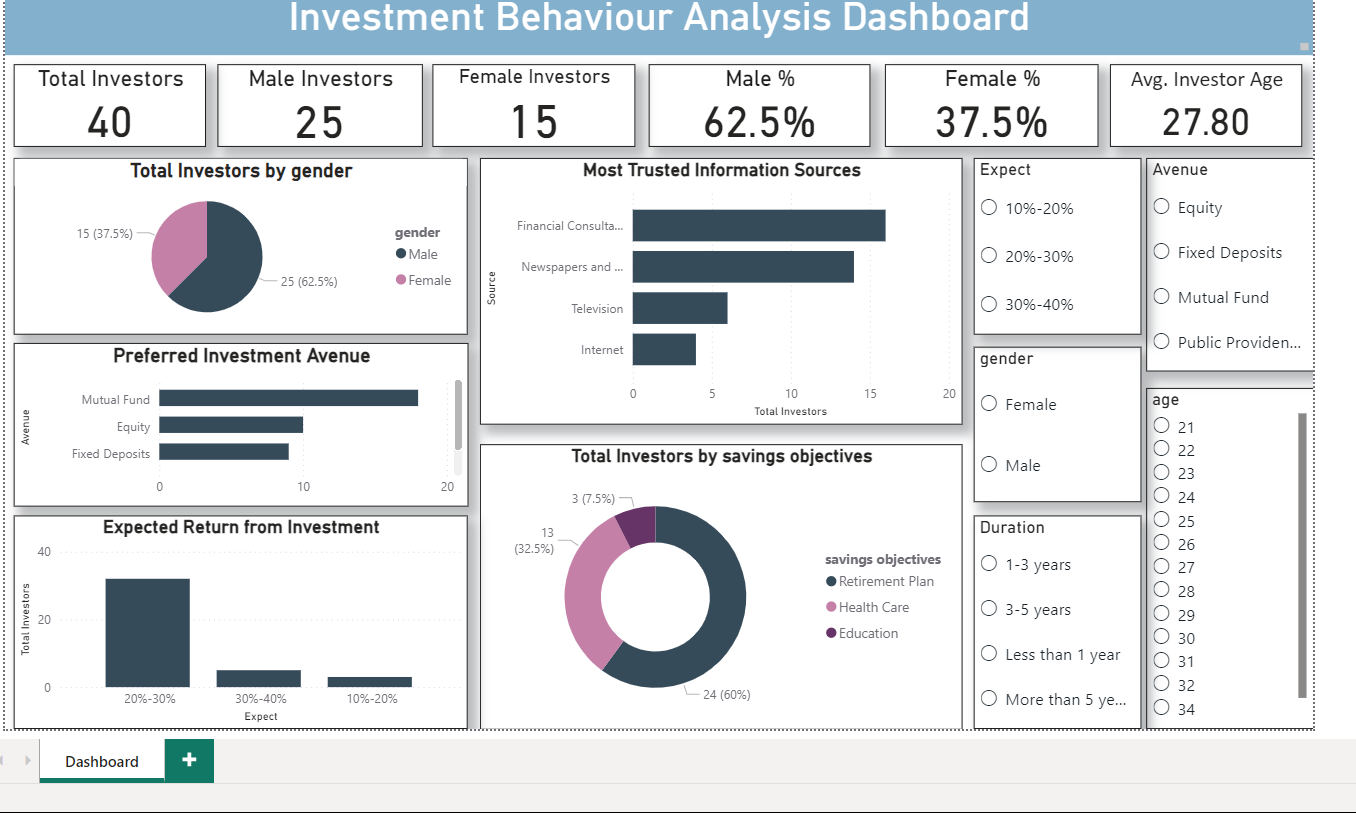

The page's visual inventory and layout, read from the dashboard file:
{"tool":"powerbi","page":{"name":" Dashboard","canvas":[1280,720],"ordinal":0},"visuals":[{"type":"card","title":"Male Investors","fields":{"Values":["Table.Male Investors"]},"box":[207.9,69.7,200.5,80.7],"z":0},{"type":"card","title":"Total Investors","fields":{"Values":["Table.Total Investors"]},"box":[8.6,69.7,188.3,80.7],"z":1000},{"type":"card","title":" Male %","fields":{"Values":["Table.Female %"]},"box":[629.8,69.7,216.4,80.7],"z":2000},{"type":"card","title":"Female %","fields":{"Values":["Table.Female %"]},"box":[860.9,69.7,209.1,80.7],"z":3000},{"type":"card","title":"Female Investors","fields":{"Values":["Table.Female Investors"]},"box":[418.2,69.7,198.1,80.7],"z":4000},{"type":"card","title":"Avg. Investor Age","fields":{"Values":["Table.Average Age"]},"box":[1081,69.7,188.3,80.7],"z":5000},{"type":"pieChart","fields":{"Category":["Data_set 2 - Copy.gender"],"Y":["Table.Total Investors"]},"box":[8.6,161.4,443.9,172.4],"z":6000},{"type":"barChart","title":"Preferred Investment Avenue","fields":{"Category":["Data_set 2 - Copy.Avenue"],"Y":["Table.Total Investors"]},"box":[8.6,342.4,445.1,160.2],"z":7000},{"type":"donutChart","fields":{"Category":["Data_set 2 - Copy.savings objectives"],"Y":["Table.Total Investors"]},"box":[464.7,441.4,472,278.8],"z":8000},{"type":"barChart","title":"     Most Trusted Information Sources","fields":{"Category":["Data_set 2 - Copy.Source"],"Y":["Table.Total Investors"]},"box":[464.7,161.4,472,260.5],"z":9000},{"type":"clusteredColumnChart","title":"   Expected Return from Investment","fields":{"Category":["Data_set 2 - Copy.Expect"],"Y":["Table.Total Investors"]},"box":[8.6,511.1,443.9,209.1],"z":10000},{"type":"textbox","title":"Investment Behaviour Analysis Dashboard","box":[0,0,1280.3,61.1],"z":11000},{"type":"listSlicer","fields":{"Values":["Data_set 2 - Copy.age"]},"box":[1116.4,386.4,163.9,333.8],"z":12000},{"type":"listSlicer","fields":{"Values":["Data_set 2 - Copy.gender"]},"box":[947.7,346.1,163.9,151.6],"z":13000},{"type":"listSlicer","fields":{"Values":["Data_set 2 - Copy.Avenue"]},"box":[1116.4,161.4,163.9,209.1],"z":14000},{"type":"listSlicer","fields":{"Values":["Data_set 2 - Copy.Expect"]},"box":[947.7,161.4,163.9,172.4],"z":15000},{"type":"listSlicer","fields":{"Values":["Data_set 2 - Copy.Duration"]},"box":[947.7,511.1,163.9,209.1],"z":16000}]}

Visuals, with their boxes in screenshot pixels (x1, y1, x2, y2):
"Male Investors" card: [x1=224, y1=67, x2=426, y2=148]
"Total Investors" card: [x1=23, y1=67, x2=213, y2=148]
" Male %" card: [x1=649, y1=67, x2=867, y2=148]
"Female %" card: [x1=882, y1=67, x2=1092, y2=148]
"Female Investors" card: [x1=436, y1=67, x2=635, y2=148]
"Avg. Investor Age" card: [x1=1103, y1=67, x2=1293, y2=148]
pieChart - Data_set 2 - Copy.gender x Table.Total Investors: [x1=23, y1=159, x2=470, y2=333]
"Preferred Investment Avenue" barChart: [x1=23, y1=342, x2=471, y2=503]
donutChart - Data_set 2 - Copy.savings objectives x Table.Total Investors: [x1=482, y1=441, x2=958, y2=722]
"     Most Trusted Information Sources" barChart: [x1=482, y1=159, x2=958, y2=422]
"   Expected Return from Investment" clusteredColumnChart: [x1=23, y1=512, x2=470, y2=722]
"Investment Behaviour Analysis Dashboard" textbox: [x1=14, y1=0, x2=1304, y2=58]
listSlicer - Data_set 2 - Copy.age: [x1=1139, y1=386, x2=1304, y2=722]
listSlicer - Data_set 2 - Copy.gender: [x1=969, y1=345, x2=1134, y2=498]
listSlicer - Data_set 2 - Copy.Avenue: [x1=1139, y1=159, x2=1304, y2=370]
listSlicer - Data_set 2 - Copy.Expect: [x1=969, y1=159, x2=1134, y2=333]
listSlicer - Data_set 2 - Copy.Duration: [x1=969, y1=512, x2=1134, y2=722]
